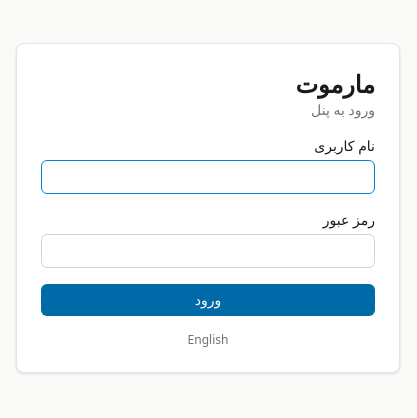
Test: LoginPage › shows the server error in Persian
Type "root" into the field labelled "نام کاربری" at (208,177), box [41, 160, 375, 194]
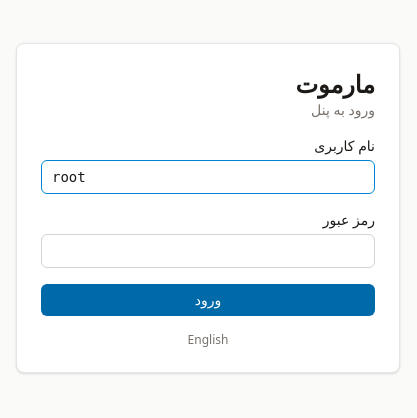
Type "x" into the password field labelled "رمز عبور" at (208,251), box [41, 234, 375, 268]
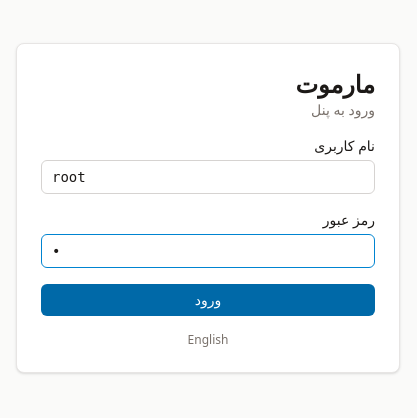
Click the button "ورود" at (208,300), box [41, 284, 375, 316]
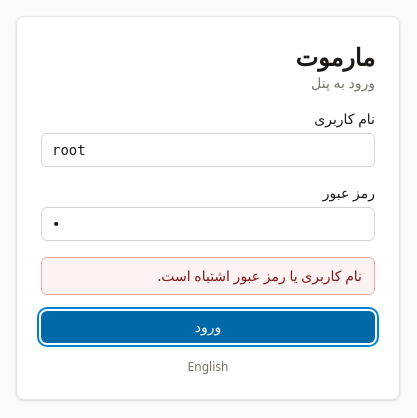
Check: the message reads "نام کاربری یا رمز عبور اشتباه است.", box [158, 266, 362, 285]
